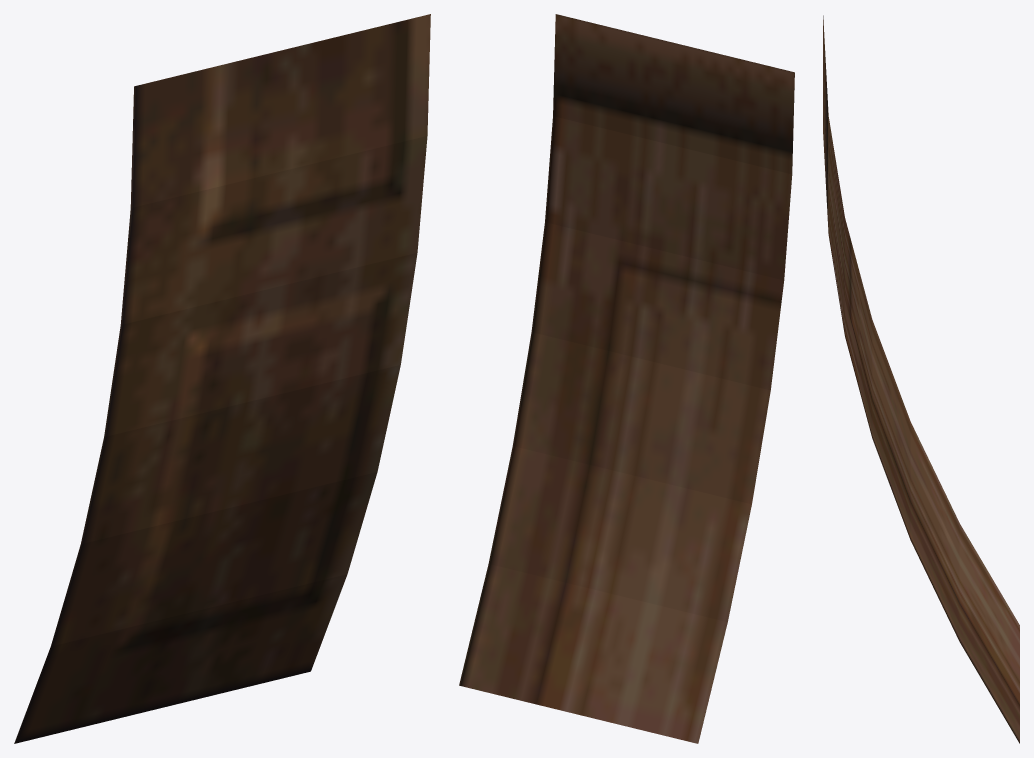
File: SM_wallpaper_peel.fbx
3 views of the same model, side by side, from view 1: azimuth 30°, elevation 25°; view 2: azimuth 150°, elevation 25°; view 3: azimuth 270°, elevation 25° (orthographic). The views are drawn at different scales.
Parts seen in each view (by area): view 1: wallpaper_peel; view 2: wallpaper_peel; view 3: wallpaper_peel.
Boxes of the visible parts, x1,y1,x2,y2 form: wallpaper_peel: (14, 14, 430, 743); wallpaper_peel: (459, 14, 794, 743); wallpaper_peel: (823, 15, 1019, 743).
Size of the model in its own units: 0.5 by 1.2 by 0.3502.
